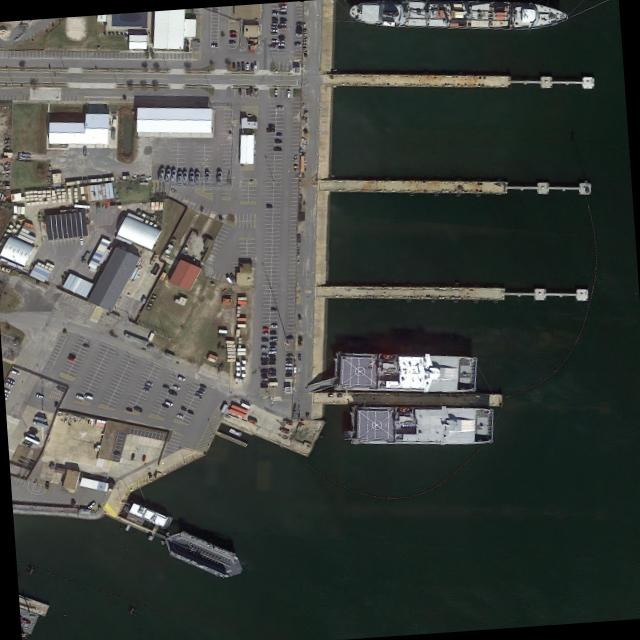large-vehicle: (32, 420, 48, 428), (82, 251, 90, 264), (96, 203, 100, 216), (27, 432, 35, 438), (83, 146, 86, 155)
ship: (348, 0, 568, 31), (335, 352, 476, 393), (351, 407, 493, 444), (159, 527, 248, 583), (129, 503, 173, 530), (203, 171, 213, 187), (163, 168, 172, 183), (157, 167, 165, 182), (176, 170, 183, 186), (216, 170, 223, 186), (170, 169, 177, 184), (194, 170, 200, 187), (275, 418, 286, 427), (182, 170, 188, 186), (189, 170, 195, 186), (281, 418, 293, 426), (278, 428, 290, 435), (292, 404, 297, 418), (277, 433, 288, 439), (18, 152, 31, 157), (17, 156, 30, 161), (296, 406, 301, 418), (227, 171, 231, 184), (301, 137, 308, 143)
small-vehicle: (87, 501, 97, 510), (225, 276, 234, 285), (34, 416, 47, 422), (84, 394, 95, 401), (168, 389, 177, 397), (6, 377, 15, 385), (4, 381, 14, 388), (179, 405, 188, 412), (199, 382, 208, 389), (197, 386, 206, 393), (193, 393, 202, 400), (161, 402, 170, 409), (68, 352, 77, 359), (65, 355, 74, 362), (75, 394, 85, 400), (195, 390, 204, 396), (176, 413, 185, 419), (130, 452, 136, 461), (133, 406, 142, 412), (78, 237, 84, 246), (177, 375, 186, 381), (145, 381, 154, 387), (11, 369, 20, 375), (35, 393, 44, 399), (81, 343, 90, 349), (273, 146, 282, 152), (163, 401, 173, 406), (12, 338, 19, 345), (186, 409, 194, 415), (144, 384, 152, 390), (142, 387, 150, 393), (172, 384, 180, 390), (22, 442, 30, 448), (29, 429, 38, 434), (228, 29, 237, 34), (274, 139, 283, 144), (266, 128, 275, 133), (249, 87, 253, 98), (141, 454, 146, 462), (125, 407, 133, 412), (294, 42, 302, 47), (162, 384, 170, 389), (24, 440, 32, 445), (237, 88, 242, 96), (235, 63, 240, 71), (294, 22, 303, 26), (278, 4, 287, 8), (274, 89, 278, 98), (250, 62, 254, 71), (269, 338, 278, 342), (268, 350, 277, 354), (285, 358, 294, 362), (261, 338, 268, 343), (297, 353, 302, 360), (229, 34, 237, 38), (192, 39, 200, 43), (270, 28, 278, 32), (270, 31, 278, 35), (270, 39, 278, 43), (295, 28, 303, 32), (279, 8, 287, 12), (271, 11, 279, 15), (271, 18, 279, 22), (210, 44, 218, 48), (245, 88, 249, 96), (269, 342, 277, 346), (261, 331, 269, 335), (270, 323, 278, 327), (270, 308, 278, 312), (275, 132, 283, 136), (286, 353, 294, 357), (260, 373, 268, 377), (285, 373, 293, 377), (268, 369, 276, 373), (268, 373, 276, 377), (261, 377, 269, 381), (285, 362, 293, 366), (267, 358, 275, 362), (260, 357, 268, 361), (218, 214, 223, 220), (295, 32, 302, 36), (279, 22, 286, 26), (280, 18, 287, 22), (254, 64, 258, 71), (287, 91, 291, 98), (71, 502, 75, 509), (261, 346, 268, 350), (269, 346, 276, 350), (262, 327, 269, 331), (286, 336, 293, 340), (270, 331, 277, 335), (267, 124, 274, 128), (231, 62, 235, 69), (285, 369, 292, 373), (268, 361, 275, 365), (268, 354, 275, 358), (261, 353, 268, 357), (254, 88, 257, 97), (241, 62, 244, 71), (270, 25, 278, 28), (271, 22, 279, 25), (278, 39, 284, 43), (269, 46, 277, 49), (246, 63, 249, 71), (285, 366, 293, 369), (260, 362, 268, 365), (279, 26, 286, 29), (279, 12, 286, 15), (278, 46, 285, 49), (278, 43, 285, 46), (113, 452, 120, 455), (278, 36, 285, 39), (260, 384, 267, 387), (266, 205, 273, 208), (276, 106, 283, 109), (229, 40, 236, 43), (200, 205, 203, 212), (271, 43, 278, 46), (280, 2, 286, 4), (296, 26, 302, 28)
